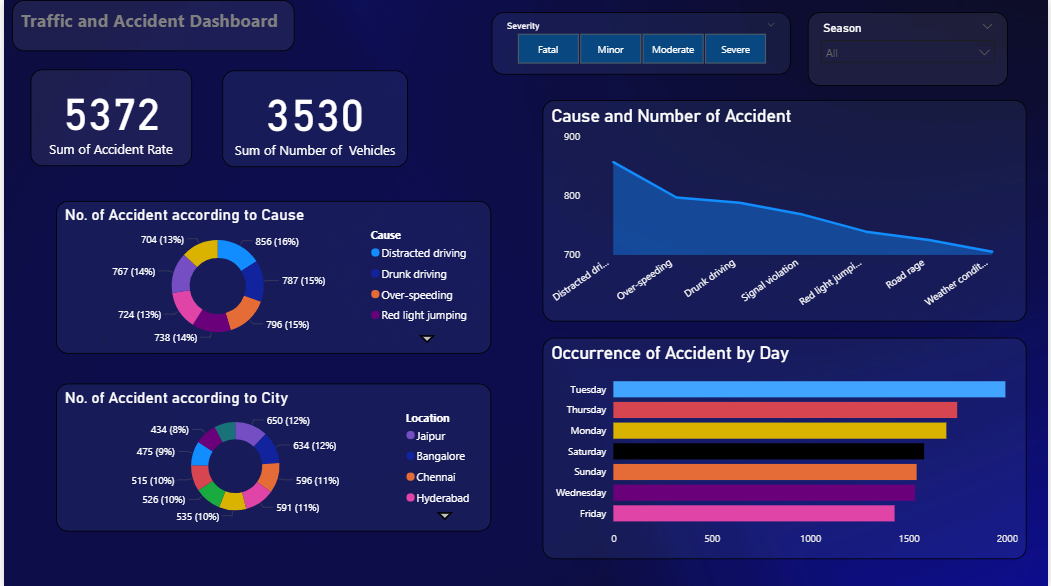

The dashboard page shown, as its layout file describes it:
{"tool":"powerbi","page":{"name":"Page 1","canvas":[1280,720],"ordinal":0},"visuals":[{"type":"textbox","box":[10,0,346.2,62.5],"z":0},{"type":"areaChart","title":"Cause and Number of Accident","fields":{"Category":["traffic_accident_data.Cause"],"Y":["Sum(traffic_accident_data.Accident_Rate)"]},"box":[660,122.2,593.3,271.1],"z":1000},{"type":"barChart","title":"Occurrence of Accident by Day","fields":{"Category":["traffic_accident_data.Day_of_Week"],"Y":["Sum(traffic_accident_data.Hour_of_Day)"]},"box":[660,413.3,593.3,271.1],"z":2000},{"type":"donutChart","title":"No. of Accident according to City","fields":{"Y":["Sum(traffic_accident_data.Accident_Rate)"],"Category":["traffic_accident_data.Location"]},"box":[63.8,470,533.8,181.2],"z":3000},{"type":"donutChart","title":"No. of Accident according to Cause","fields":{"Y":["Sum(traffic_accident_data.Accident_Rate)"],"Series":["traffic_accident_data.Cause"]},"box":[63.8,246.2,533.8,187.5],"z":4000},{"type":"card","fields":{"Values":["Sum(traffic_accident_data.Accident_Rate)"]},"box":[32.2,85.6,197.8,118.9],"z":5000},{"type":"card","fields":{"Values":["Sum(traffic_accident_data.Number_of_Vehicles)"]},"box":[267.8,86.7,227.8,118.9],"z":6000},{"type":"slicer","fields":{"Values":["traffic_accident_data.Severity"]},"box":[597.5,15,366.2,76.2],"z":7000},{"type":"slicer","fields":{"Values":["traffic_accident_data.Season"]},"box":[985,15,245,90],"z":8000}]}

Visuals, with their boxes in screenshot pixels (x1, y1, x2, y2), scaled from the page's 1280x720 canvas onto the 1051x586 screenshot:
textbox: <bbox>8, 0, 292, 51</bbox>
"Cause and Number of Accident" areaChart: <bbox>542, 99, 1029, 320</bbox>
"Occurrence of Accident by Day" barChart: <bbox>542, 336, 1029, 557</bbox>
"No. of Accident according to City" donutChart: <bbox>52, 383, 491, 530</bbox>
"No. of Accident according to Cause" donutChart: <bbox>52, 200, 491, 353</bbox>
card - Sum(traffic_accident_data.Accident_Rate): <bbox>26, 70, 189, 166</bbox>
card - Sum(traffic_accident_data.Number_of_Vehicles): <bbox>220, 71, 407, 167</bbox>
slicer - traffic_accident_data.Severity: <bbox>491, 12, 791, 74</bbox>
slicer - traffic_accident_data.Season: <bbox>809, 12, 1010, 85</bbox>
